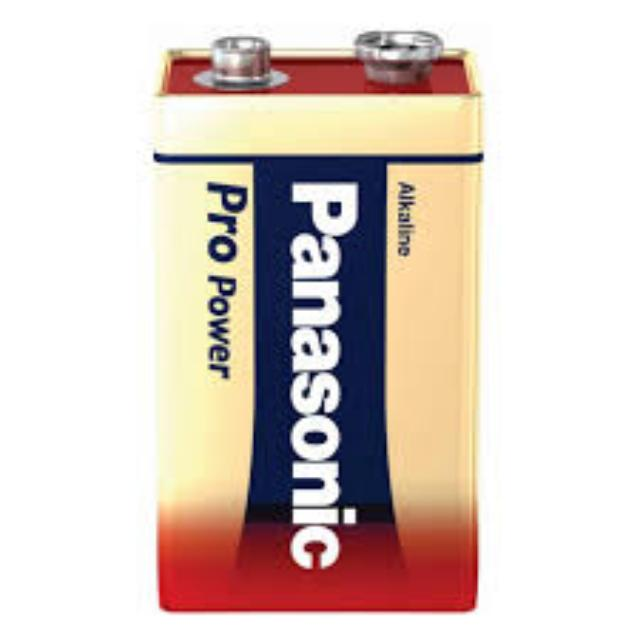Battery: (151, 31, 492, 623)
